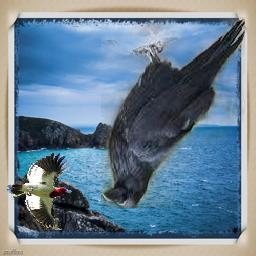Crow: (101, 18, 245, 209)
Woodpecker: (8, 152, 73, 230)
